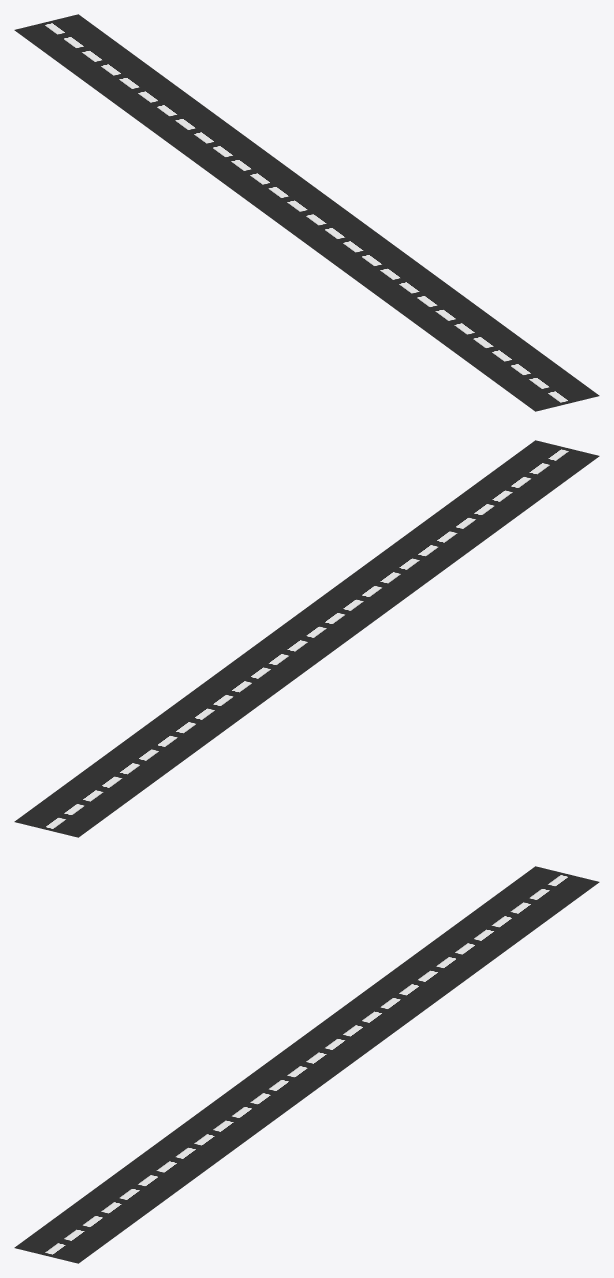
File: route.fbx
The picture shows the model from 3 angles, top to bottom: view 1: azimuth 30°, elevation 25°; view 2: azimuth 150°, elevation 25°; view 3: azimuth 330°, elevation 25°; orthographic projection.
Visible parts, largest first — view 1: Plane001; view 2: Plane001; view 3: Plane001.
Boxes of the visible parts, x1,y1,x2,y2 form: Plane001: (14,14,599,411); Plane001: (14,440,599,837); Plane001: (14,866,599,1263).
Bounding box in the file's own units: 1 × 8.57e-16 × 14.
